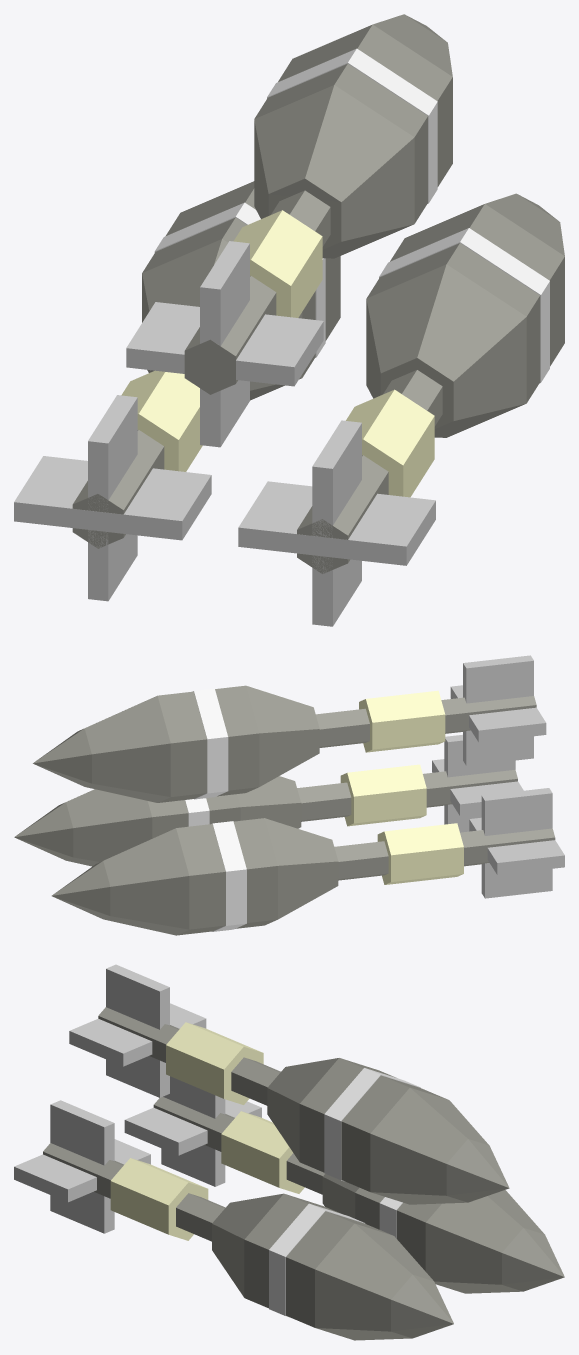
Rendered from ce_ammo_mortar_smoke_b.obj.
3 views of the same model, one above another, from view 1: azimuth 30°, elevation 25°; view 2: azimuth 150°, elevation 25°; view 3: azimuth 270°, elevation 25° (orthographic). The views are drawn at different scales.
Visible parts, largest first — view 1: ce_ammo_mortar_smoke_b_12, ce_ammo_mortar_smoke_b_22, ce_ammo_mortar_smoke_b_18, ce_ammo_mortar_smoke_b_8, ce_ammo_mortar_smoke_b_28, ce_ammo_mortar_smoke_b_19, ce_ammo_mortar_smoke_b_9, ce_ammo_mortar_smoke_b_29, ce_ammo_mortar_smoke_b_21, ce_ammo_mortar_smoke_b_11, ce_ammo_mortar_smoke_b_20, ce_ammo_mortar_smoke_b_25 (+14 smaller); view 2: ce_ammo_mortar_smoke_b_6, ce_ammo_mortar_smoke_b_26, ce_ammo_mortar_smoke_b_16, ce_ammo_mortar_smoke_b_9, ce_ammo_mortar_smoke_b_29, ce_ammo_mortar_smoke_b_22, ce_ammo_mortar_smoke_b_2, ce_ammo_mortar_smoke_b_21, ce_ammo_mortar_smoke_b_1, ce_ammo_mortar_smoke_b_11, ce_ammo_mortar_smoke_b_25, ce_ammo_mortar_smoke_b_5 (+18 smaller); view 3: ce_ammo_mortar_smoke_b_26, ce_ammo_mortar_smoke_b_16, ce_ammo_mortar_smoke_b_6, ce_ammo_mortar_smoke_b_19, ce_ammo_mortar_smoke_b_29, ce_ammo_mortar_smoke_b_11, ce_ammo_mortar_smoke_b_21, ce_ammo_mortar_smoke_b_1, ce_ammo_mortar_smoke_b_25, ce_ammo_mortar_smoke_b_15, ce_ammo_mortar_smoke_b_23, ce_ammo_mortar_smoke_b_13 (+18 smaller).
Boxes of the visible parts, <box> form: ce_ammo_mortar_smoke_b_12: <box>366,264,526,437</box>; ce_ammo_mortar_smoke_b_22: <box>254,85,414,258</box>; ce_ammo_mortar_smoke_b_18: <box>238,481,435,565</box>; ce_ammo_mortar_smoke_b_8: <box>14,456,211,540</box>; ce_ammo_mortar_smoke_b_28: <box>126,302,323,386</box>; ce_ammo_mortar_smoke_b_19: <box>312,420,361,626</box>; ce_ammo_mortar_smoke_b_9: <box>88,395,137,601</box>; ce_ammo_mortar_smoke_b_29: <box>200,241,249,447</box>; ce_ammo_mortar_smoke_b_21: <box>233,210,322,317</box>; ce_ammo_mortar_smoke_b_11: <box>346,389,434,497</box>; ce_ammo_mortar_smoke_b_20: <box>184,190,330,394</box>; ce_ammo_mortar_smoke_b_25: <box>278,24,452,186</box>; ce_ammo_mortar_smoke_b_6: <box>103,828,189,935</box>; ce_ammo_mortar_smoke_b_26: <box>84,695,170,802</box>; ce_ammo_mortar_smoke_b_16: <box>66,789,152,866</box>; ce_ammo_mortar_smoke_b_9: <box>481,788,552,898</box>; ce_ammo_mortar_smoke_b_29: <box>463,655,533,765</box>; ce_ammo_mortar_smoke_b_22: <box>246,685,319,786</box>; ce_ammo_mortar_smoke_b_2: <box>264,818,338,919</box>; ce_ammo_mortar_smoke_b_21: <box>359,690,445,752</box>; ce_ammo_mortar_smoke_b_1: <box>377,823,463,884</box>; ce_ammo_mortar_smoke_b_11: <box>340,764,426,826</box>; ce_ammo_mortar_smoke_b_25: <box>157,691,207,802</box>; ce_ammo_mortar_smoke_b_5: <box>176,824,225,935</box>; ce_ammo_mortar_smoke_b_26: <box>370,1087,489,1204</box>; ce_ammo_mortar_smoke_b_16: <box>315,1223,433,1340</box>; ce_ammo_mortar_smoke_b_6: <box>425,1190,544,1293</box>; ce_ammo_mortar_smoke_b_19: <box>50,1100,114,1233</box>; ce_ammo_mortar_smoke_b_29: <box>106,964,169,1097</box>; ce_ammo_mortar_smoke_b_11: <box>110,1158,208,1240</box>; ce_ammo_mortar_smoke_b_21: <box>166,1022,263,1104</box>; ce_ammo_mortar_smoke_b_1: <box>221,1111,304,1193</box>; ce_ammo_mortar_smoke_b_25: <box>341,1075,447,1191</box>; ce_ammo_mortar_smoke_b_15: <box>286,1211,392,1327</box>; ce_ammo_mortar_smoke_b_23: <box>299,1058,396,1172</box>; ce_ammo_mortar_smoke_b_13: <box>244,1193,340,1308</box>.
Bounding box in the file's own units: 0.8443 × 0.39 × 0.8443.
